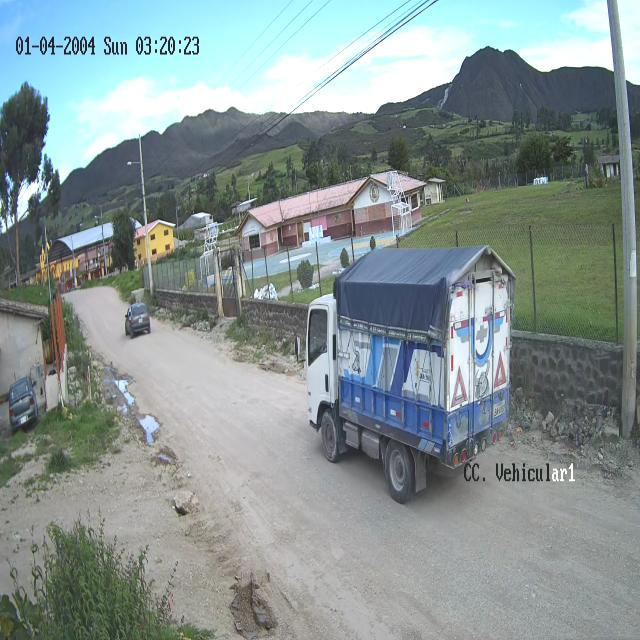TRUCK: (304, 246, 517, 504)
